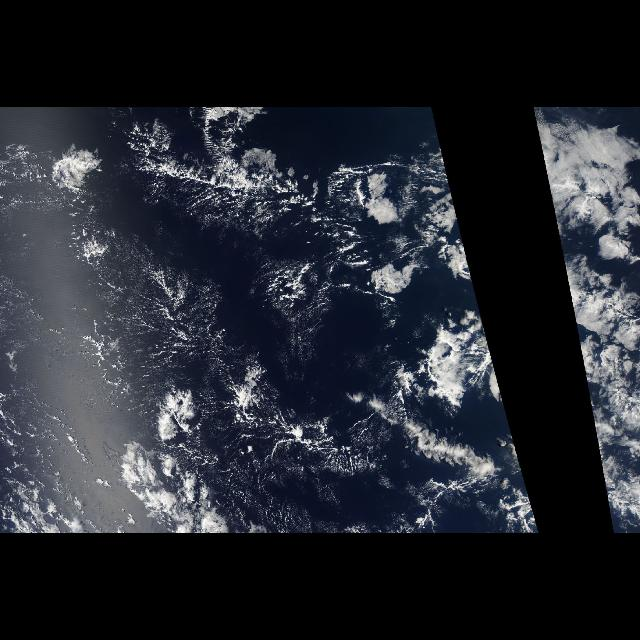Fish: (126, 128, 386, 235)
Flower: (6, 125, 528, 525)
Sugar: (58, 223, 232, 385), (211, 450, 305, 532)
